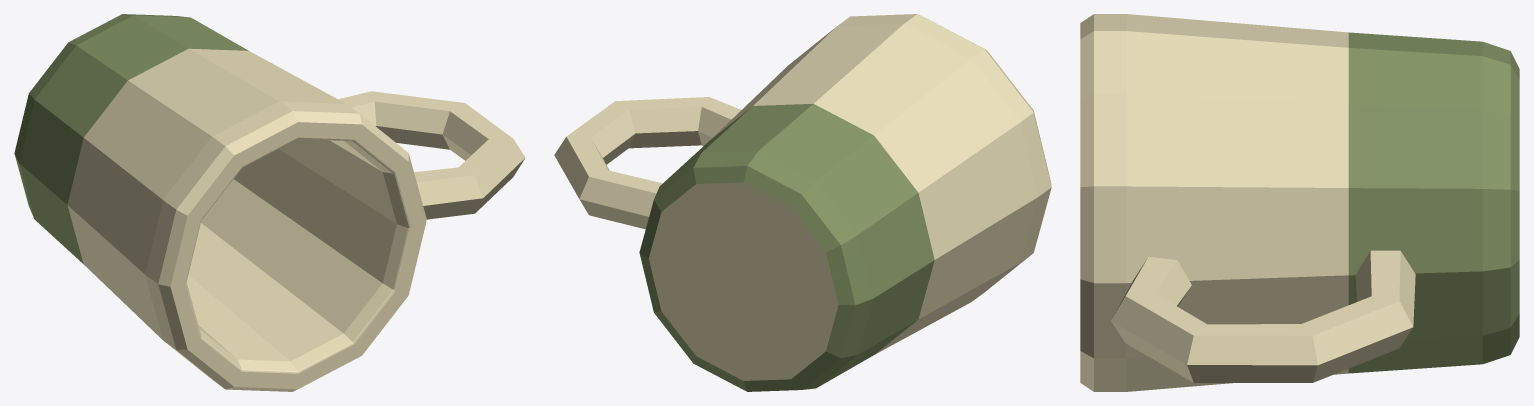
File: mug.glb
The picture shows the model from 3 angles, left to right: view 1: azimuth 30°, elevation 25°; view 2: azimuth 150°, elevation 25°; view 3: azimuth 270°, elevation 25°; orthographic projection. The views are drawn at different scales.
Visible parts, largest first — view 1: mug; view 2: mug; view 3: mug.
Boxes of the visible parts, x1,y1,x2,y2 form: mug: (14, 14, 525, 391); mug: (554, 14, 1051, 391); mug: (1080, 14, 1519, 391).
Bounding box in the file's own units: 0.124 × 0.082 × 0.095.
